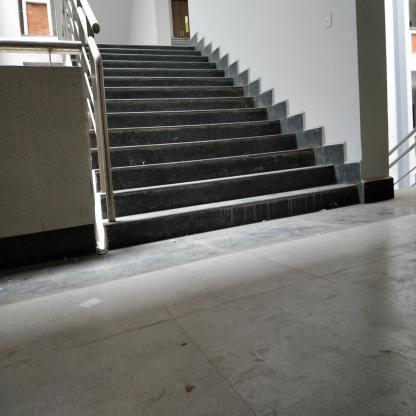stairs: (117, 50, 204, 240)
